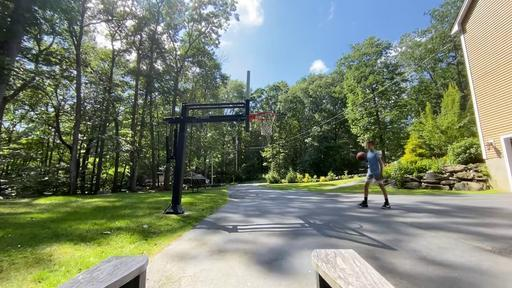ball: (356, 152, 367, 162)
human: (358, 142, 392, 210)
rim: (252, 111, 276, 136)
